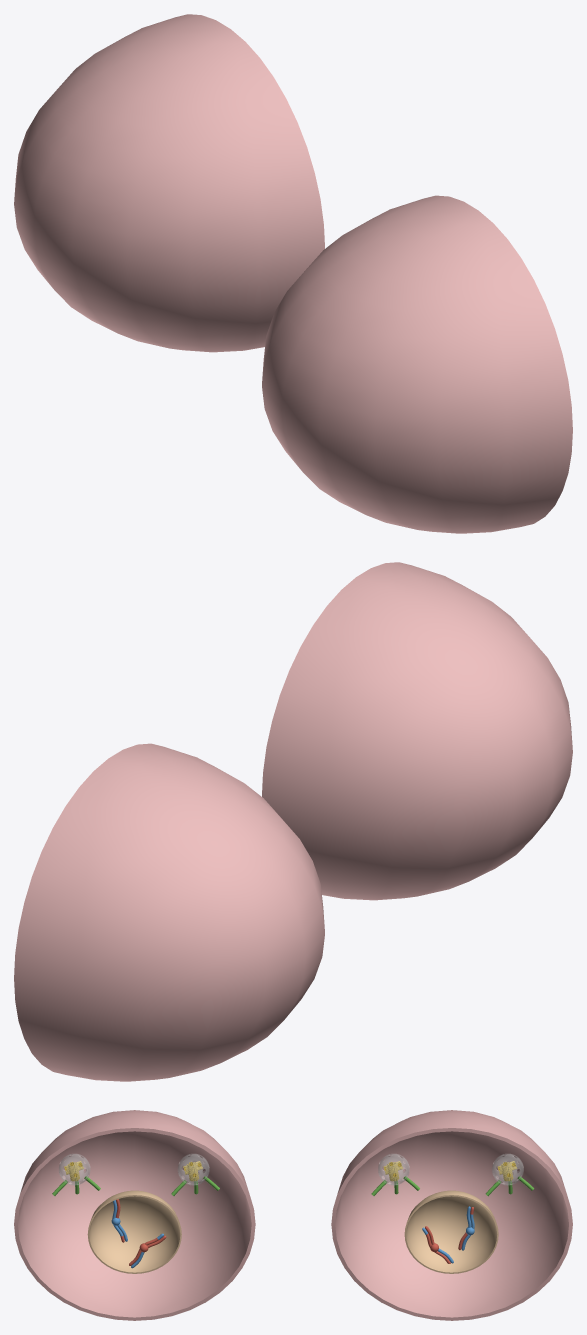
Rendered from giam phan 2 ky dau.glb.
3 renders of one model, top to bottom at view 1: azimuth 30°, elevation 25°; view 2: azimuth 150°, elevation 25°; view 3: azimuth 270°, elevation 25°, orthographic. The views are drawn at different scales.
Visible parts, largest first — view 1: pSphere8, pSphere6; view 2: pSphere6, pSphere8; view 3: pSphere6, pSphere8, pSphere7, pSphere5, polySurface255_node_0, polySurface255_node_1, polySurface255, polySurface255_node.
Part boxes in pixels (left/top/right/bottom): pSphere8: left=262, top=195, right=572, bottom=533; pSphere6: left=14, top=14, right=324, bottom=352; pSphere6: left=14, top=743, right=324, bottom=1081; pSphere8: left=262, top=562, right=572, bottom=900; pSphere6: left=331, top=1110, right=572, bottom=1320; pSphere8: left=14, top=1110, right=255, bottom=1320; pSphere7: left=404, top=1190, right=498, bottom=1273; pSphere5: left=87, top=1190, right=181, bottom=1273; polySurface255_node_0: left=492, top=1154, right=523, bottom=1185; polySurface255_node_1: left=378, top=1154, right=409, bottom=1185; polySurface255: left=59, top=1154, right=90, bottom=1185; polySurface255_node: left=178, top=1154, right=209, bottom=1185.
Size of the model in its own units: 6.61 by 9.61 by 25.23.
